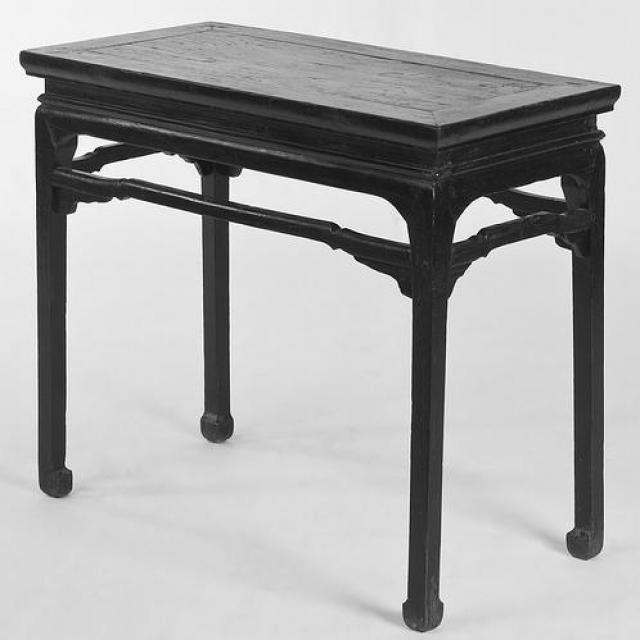table: (18, 18, 621, 630)
